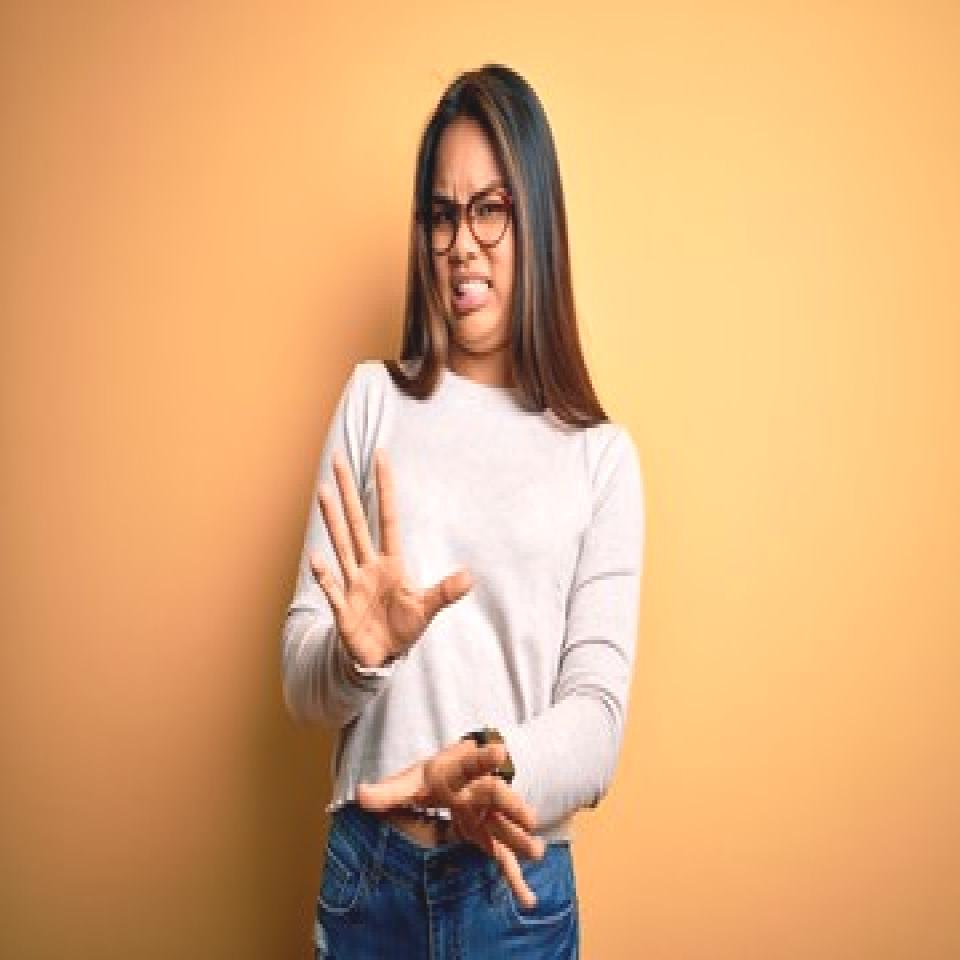Disgust: (426, 121, 528, 349)
